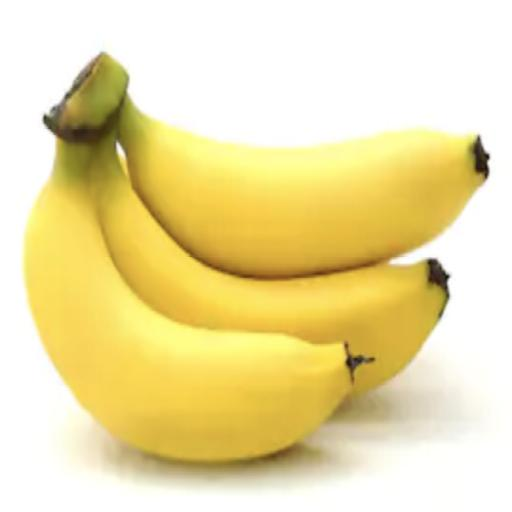banana: (24, 61, 364, 461), (92, 160, 448, 393), (119, 95, 489, 278)
